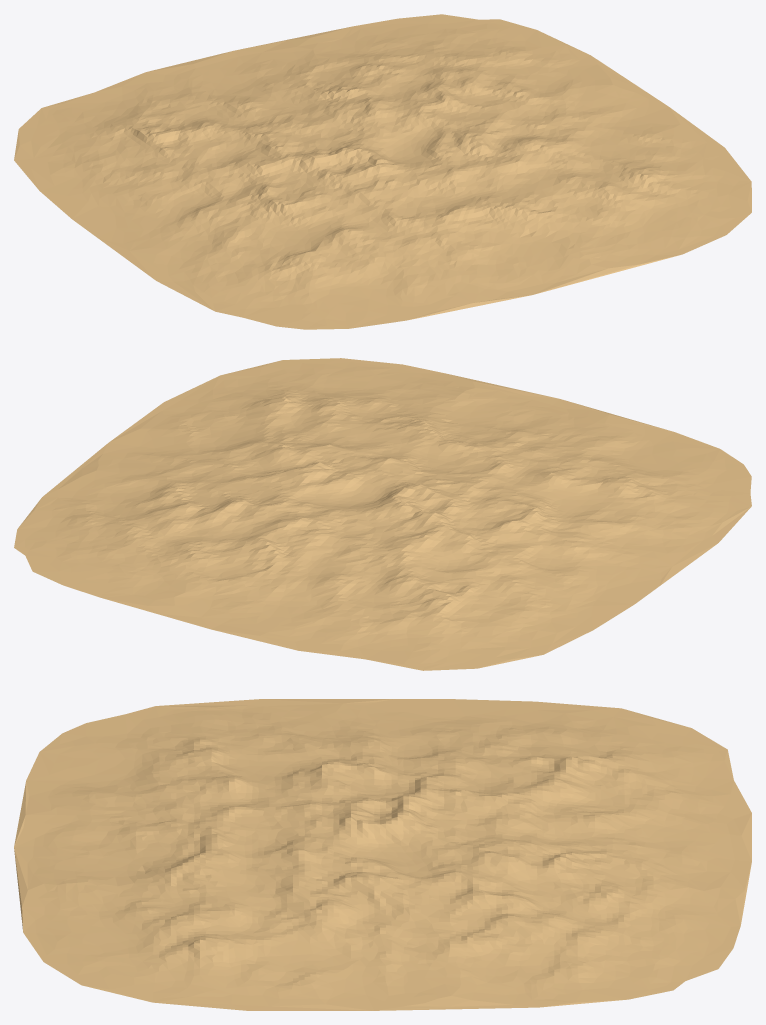
The model's file is MT_Island_H_c_01.fbx.
The picture shows the model from 3 angles, top to bottom: view 1: azimuth 30°, elevation 25°; view 2: azimuth 150°, elevation 25°; view 3: azimuth 270°, elevation 25°; orthographic projection. The views are drawn at different scales.
Parts seen in each view (by area): view 1: MT_Island_H_c_01; view 2: MT_Island_H_c_01; view 3: MT_Island_H_c_01.
Part boxes in pixels (x1=…): MT_Island_H_c_01: x1=14, y1=14, x2=751, y2=329; MT_Island_H_c_01: x1=14, y1=358, x2=751, y2=670; MT_Island_H_c_01: x1=14, y1=699, x2=751, y2=1010.
Size of the model in its own units: 50000 by 2023 by 50000.
